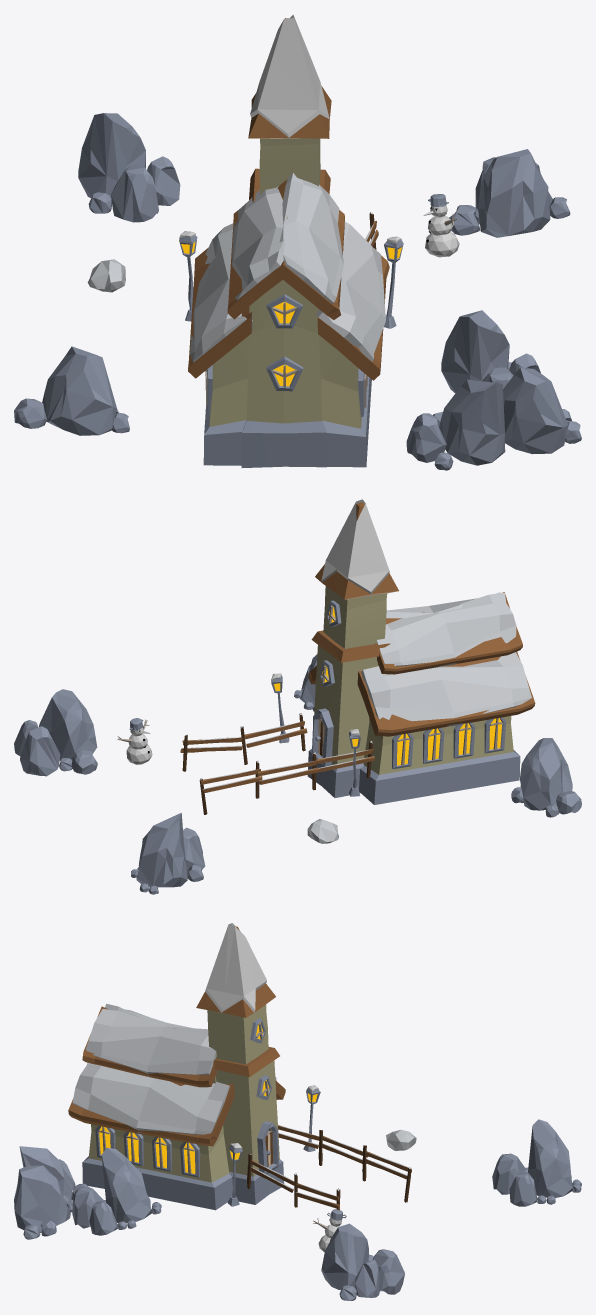
The model's file is Church.glb.
The picture shows the model from 3 angles, top to bottom: view 1: azimuth 30°, elevation 25°; view 2: azimuth 150°, elevation 25°; view 3: azimuth 270°, elevation 25°; orthographic projection. The views are drawn at different scales.
Visible parts, largest first — view 1: church, rock_group_02, rock_group_04, rock_group_01, rock_group_03, rock_group_03.001, rock_group_02.001, snowman_01, snow_pile_01, streetlamp_01, streetlamp_02; view 2: church, rock_group_04, rock_group_02, rock_group_03, snowman_01, fence_snowy_02.003, fence_snowy_02, fence_snowy_02.004, fence_snowy_02.001, fence_snowy_02.002, snow_pile_01, rock_group_02.001; view 3: church, rock_group_02, rock_group_02.001, rock_group_04, rock_group_03.001, rock_group_01, fence_snowy_02.004, fence_snowy_02, fence_snowy_02.003, snowman_01, fence_snowy_02.001, snow_pile_01.
Part boxes in pixels (x1,y1,x2,y2): church: (188,14,389,467); rock_group_02: (78,113,180,222); rock_group_04: (449,149,570,237); rock_group_01: (406,379,505,470); rock_group_03: (14,346,129,435); rock_group_03.001: (503,367,581,454); rock_group_02.001: (441,310,540,393); snowman_01: (423,194,459,257); snow_pile_01: (87,259,125,292); streetlamp_01: (384,236,403,328); streetlamp_02: (179,231,197,321); church: (307,499,535,804); rock_group_04: (14,689,97,776); rock_group_02: (131,812,205,894); rock_group_03: (511,738,581,817); snowman_01: (117,718,152,764); fence_snowy_02.003: (257,752,319,790); fence_snowy_02: (244,713,307,751); fence_snowy_02.004: (200,760,262,798); fence_snowy_02.001: (180,734,244,771); fence_snowy_02.002: (316,741,374,778); snow_pile_01: (307,819,338,843); rock_group_02.001: (294,654,317,711); church: (68,923,285,1210); rock_group_02: (492,1119,581,1206); rock_group_02.001: (72,1147,161,1235); rock_group_04: (321,1223,404,1300); rock_group_03.001: (14,1165,72,1239); rock_group_01: (19,1146,89,1200); fence_snowy_02.004: (362,1145,411,1181); fence_snowy_02: (247,1154,294,1192); fence_snowy_02.003: (318,1130,368,1165); snowman_01: (313,1209,346,1251); fence_snowy_02.001: (295,1183,340,1209); snow_pile_01: (386,1129,416,1150).
Bounding box in the file's own units: 42.12 × 23.52 × 44.52.
